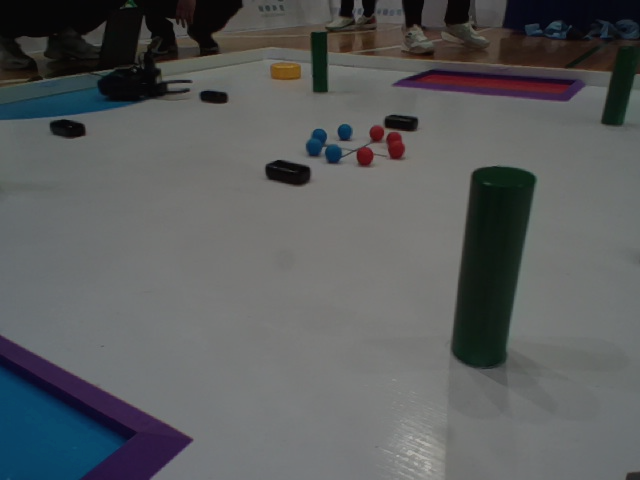black: (264, 159, 314, 187), (49, 116, 89, 140), (383, 115, 420, 132), (199, 88, 231, 105)
blue: (305, 138, 324, 155), (325, 145, 342, 163), (313, 126, 328, 143), (337, 125, 355, 138)
kuang: (1, 324, 197, 477), (391, 66, 586, 100)
red: (358, 146, 376, 166), (386, 141, 404, 159), (369, 122, 384, 141), (387, 131, 403, 146)
yellow: (267, 60, 303, 82)
zhuzi: (448, 162, 538, 373), (601, 42, 640, 128), (307, 29, 335, 94)
